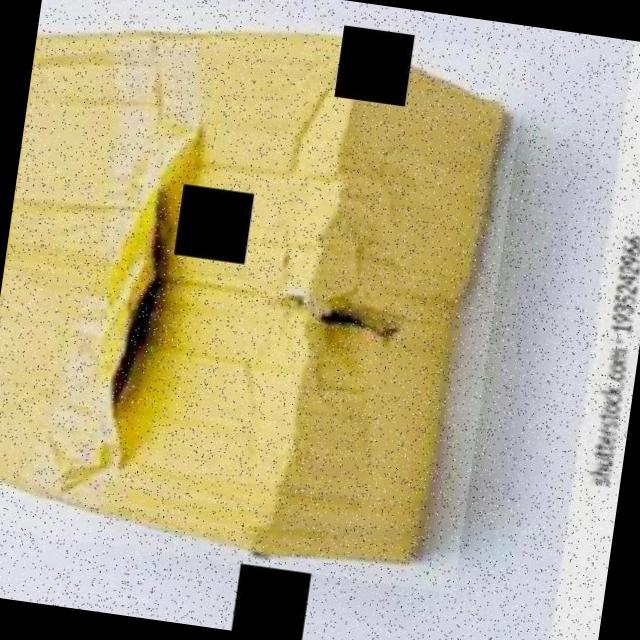box: (0, 0, 529, 593)
